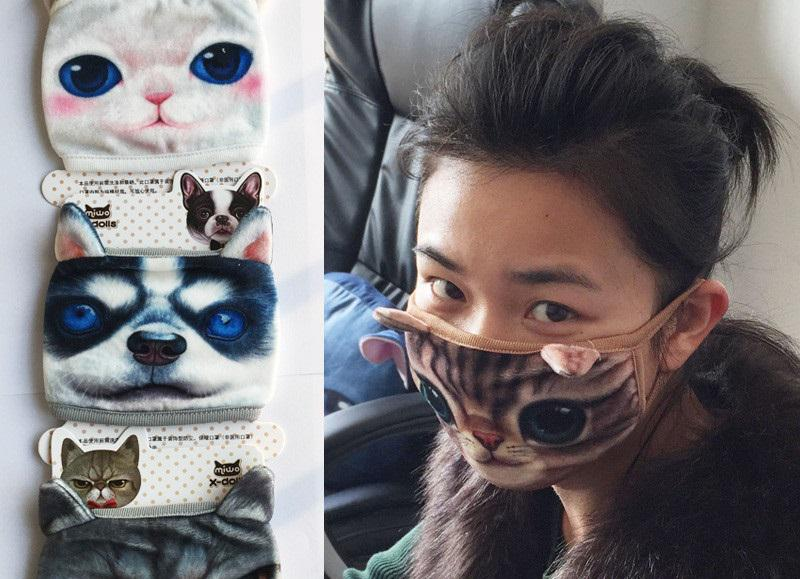OK: (398, 237, 650, 489)
